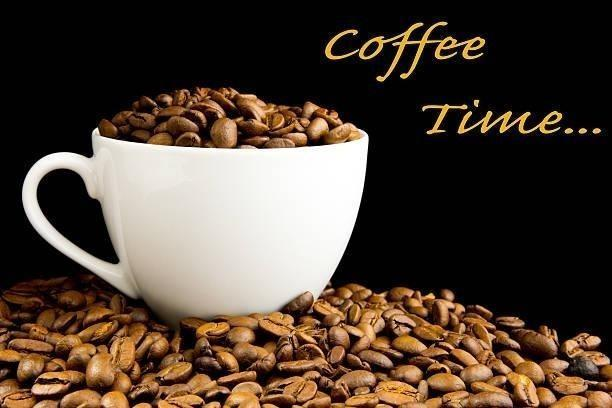cup-handle: (21, 112, 371, 337)
